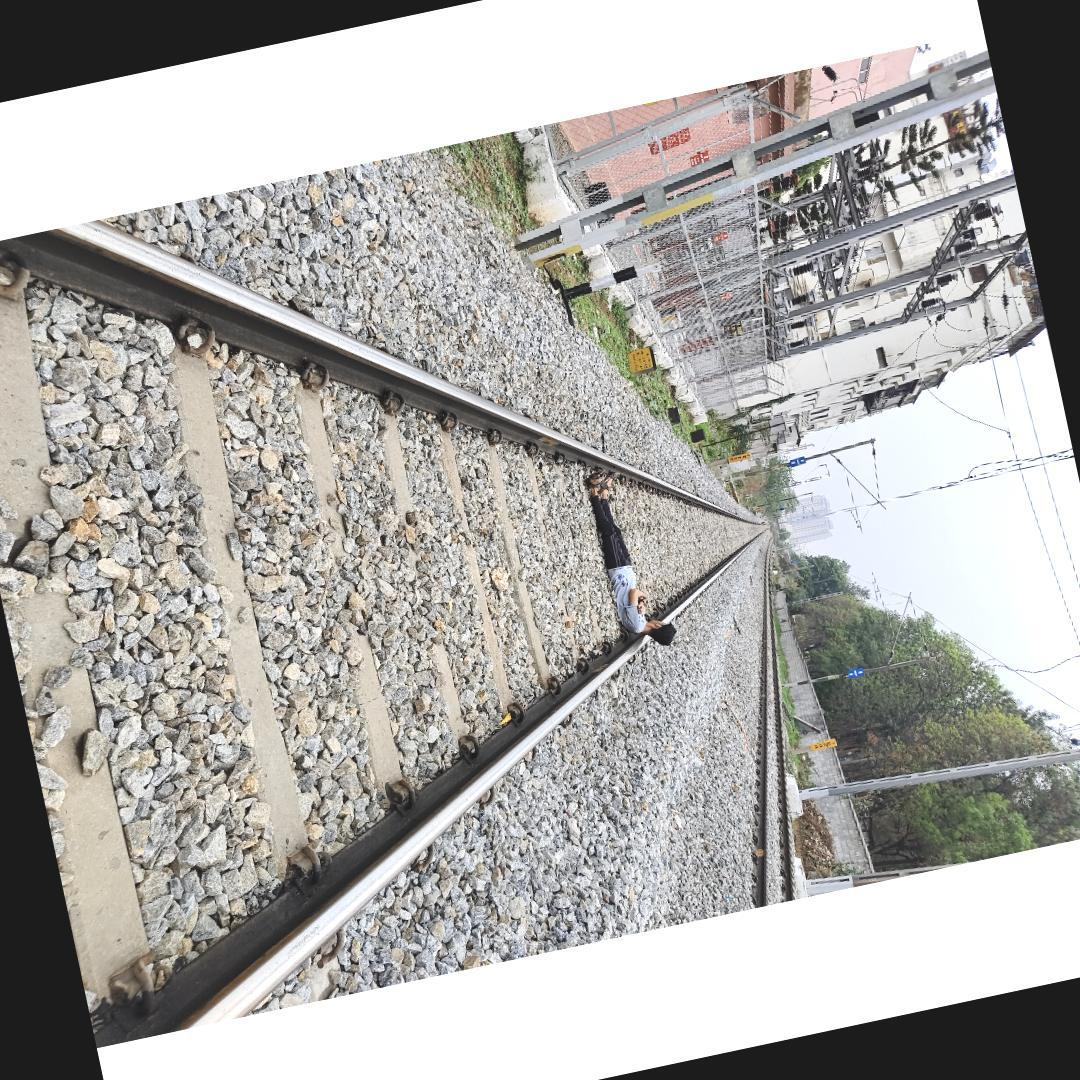sleeping: (582, 461, 680, 658)
track: (0, 215, 770, 1048)
